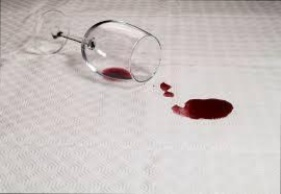wine: (158, 89, 241, 124), (160, 77, 176, 97)
